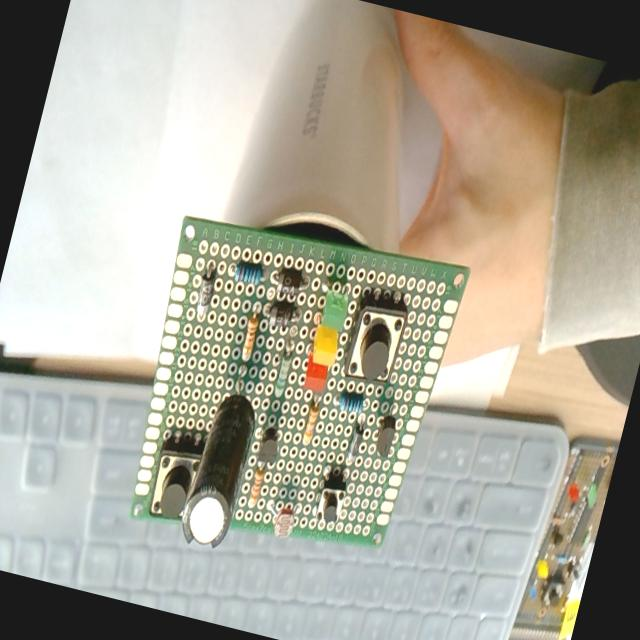Electrolytic capacitor: (175, 386, 262, 554)
cds: (258, 491, 306, 538)
diode: (192, 266, 220, 322), (273, 266, 304, 302), (266, 300, 296, 332), (344, 422, 364, 466)
led: (316, 285, 352, 334), (308, 323, 342, 368), (300, 351, 332, 395)
resistor: (272, 347, 294, 399), (238, 314, 260, 364), (231, 258, 265, 290), (336, 389, 366, 417), (301, 403, 320, 447), (247, 466, 265, 508)
switch: (340, 292, 410, 389), (145, 431, 205, 524), (313, 472, 349, 528)
transistor: (370, 414, 398, 460), (255, 427, 282, 468)
